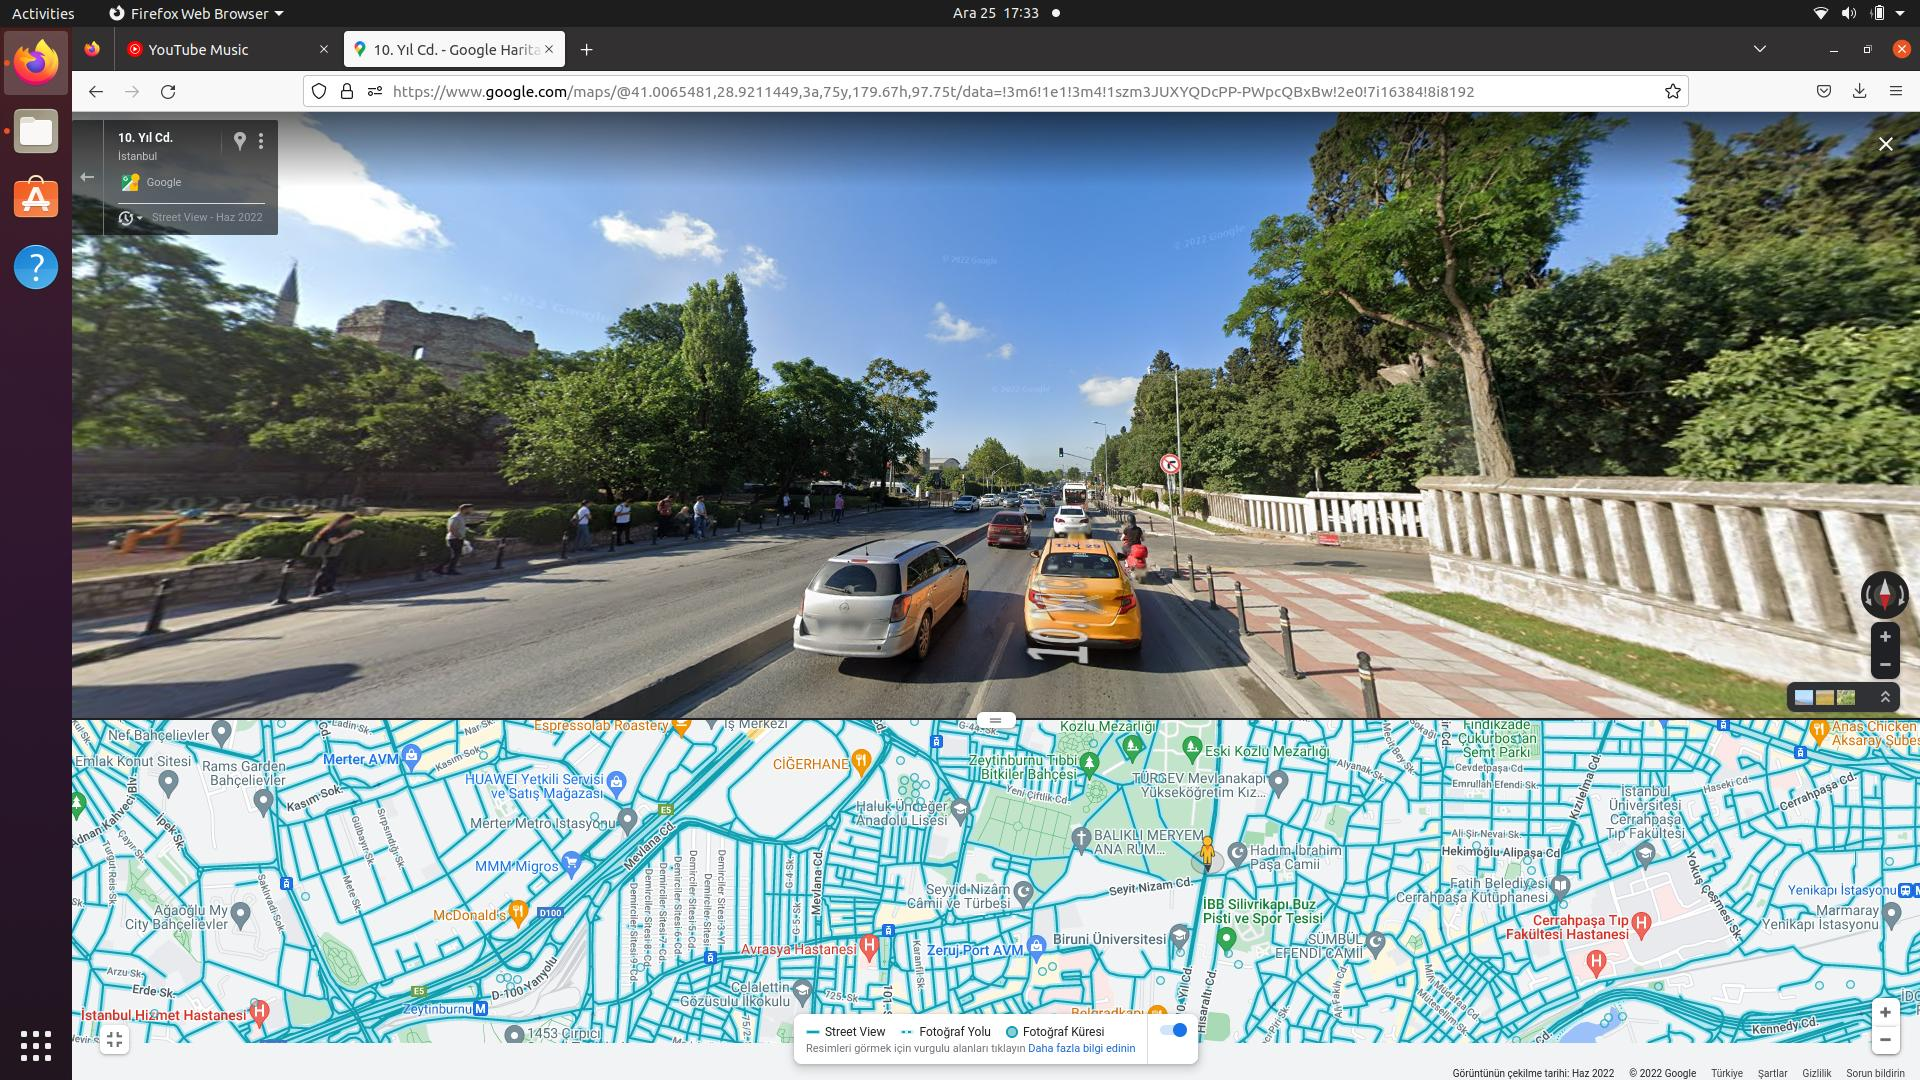greenlight: (1059, 446, 1064, 458)
rightturnsareforbidden: (1160, 455, 1180, 472)
